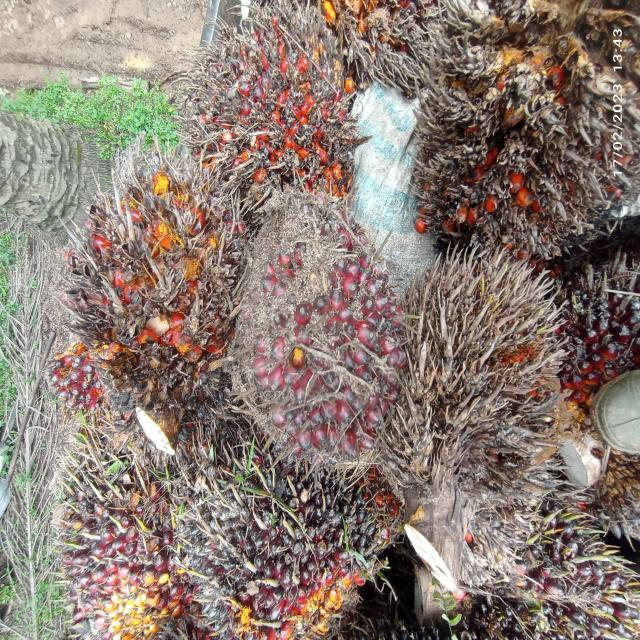fraksi 00: (155, 443, 381, 640), (41, 409, 198, 640)
fraksi 1: (222, 178, 440, 510)
fraksi 4: (413, 0, 640, 262), (49, 125, 262, 402), (157, 0, 378, 210)
